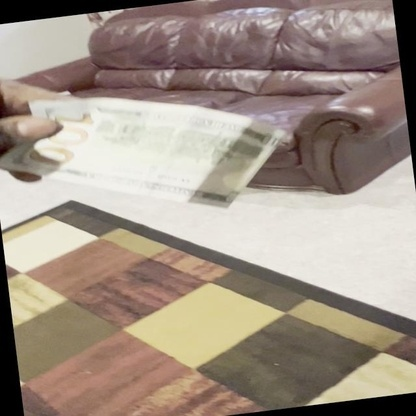one_hundred-back: (1, 100, 290, 210)
